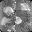people: (3, 6, 15, 16), (0, 17, 12, 27), (14, 16, 22, 25)
